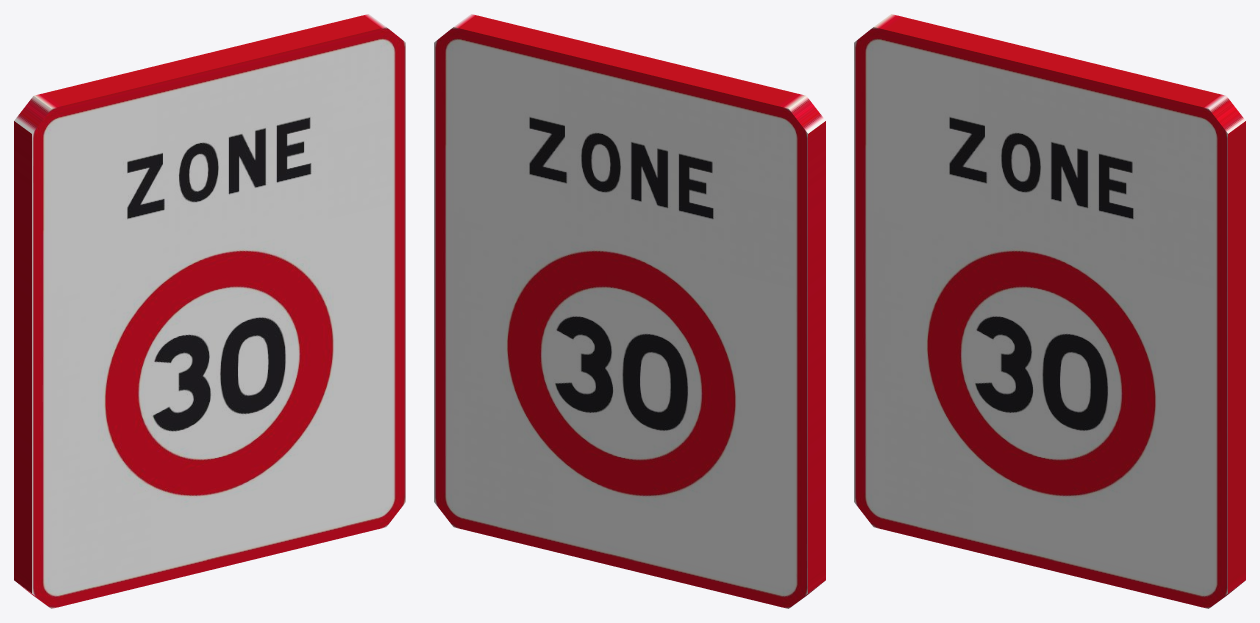
Rendered from panno.fbx.
3 views of the same model, side by side, from view 1: azimuth 30°, elevation 25°; view 2: azimuth 150°, elevation 25°; view 3: azimuth 330°, elevation 25° (orthographic).
Parts seen in each view (by area): view 1: zone30; view 2: zone30; view 3: zone30.
Boxes of the visible parts, box(x1,y1,x2,y2) form: zone30: box(14, 14, 405, 608); zone30: box(434, 14, 825, 608); zone30: box(854, 14, 1245, 608).
Bounding box in the file's own units: 78.24 × 100 × 6.42.
1 material, 1 textured.
